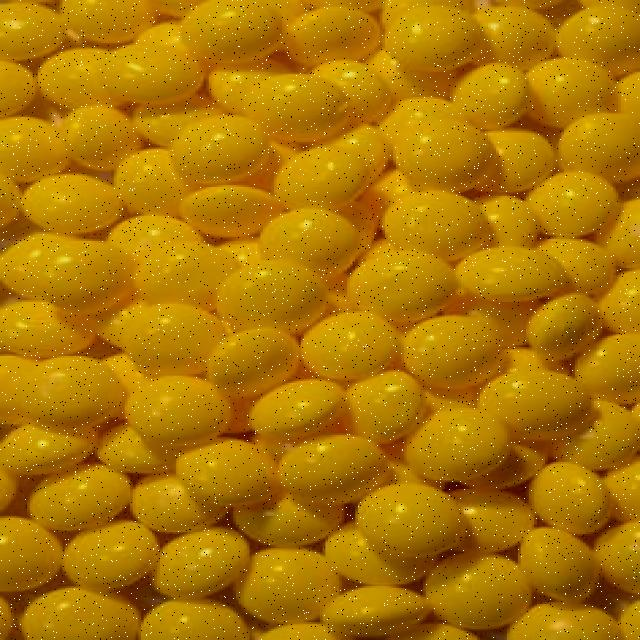Corn: (51, 34, 598, 596)
